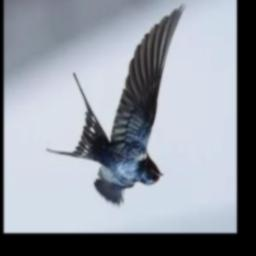Swallow: (46, 3, 187, 208)
